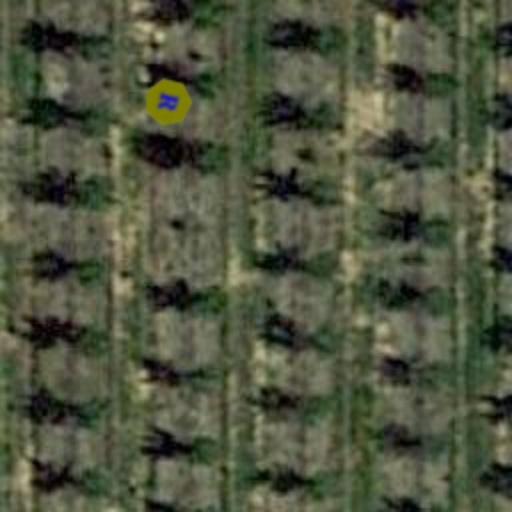heptagon: (138, 72, 198, 132)
